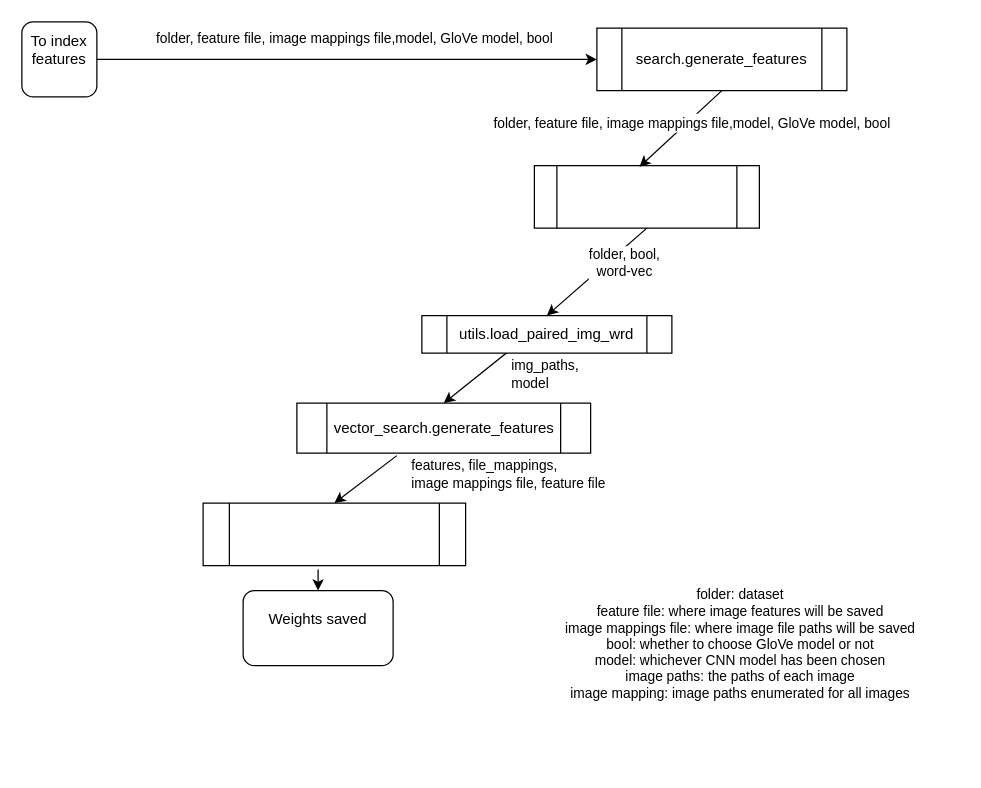
Image size: 981x788. Some labels were removed from this diagram. Here are the shapes that lost their labels. From the top down, the centre of each, then its label:
At (646,196): "search.index_images".
At (334,534): "vector_search.save_features".
